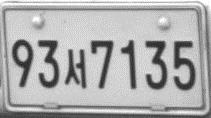1: (120, 39, 138, 89)
3: (144, 40, 168, 89), (37, 39, 60, 88)
5: (173, 40, 196, 90)
7: (90, 39, 113, 89)
9: (11, 38, 33, 87)
서: (64, 48, 87, 89)
